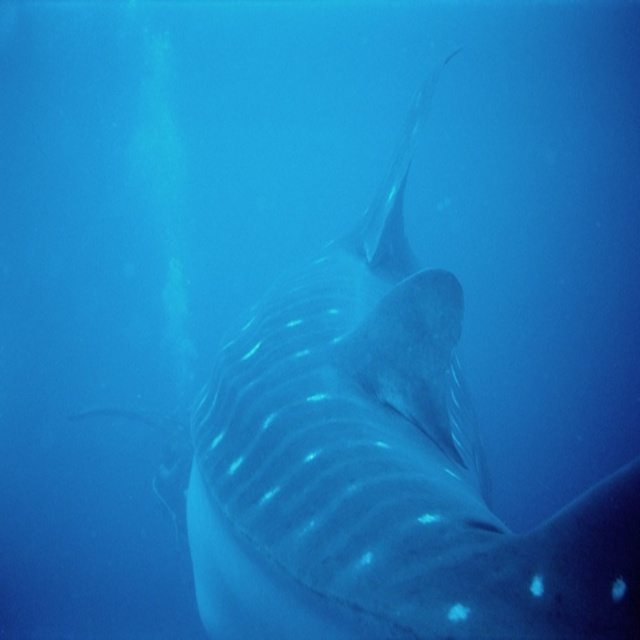Shark: (69, 43, 640, 640)
